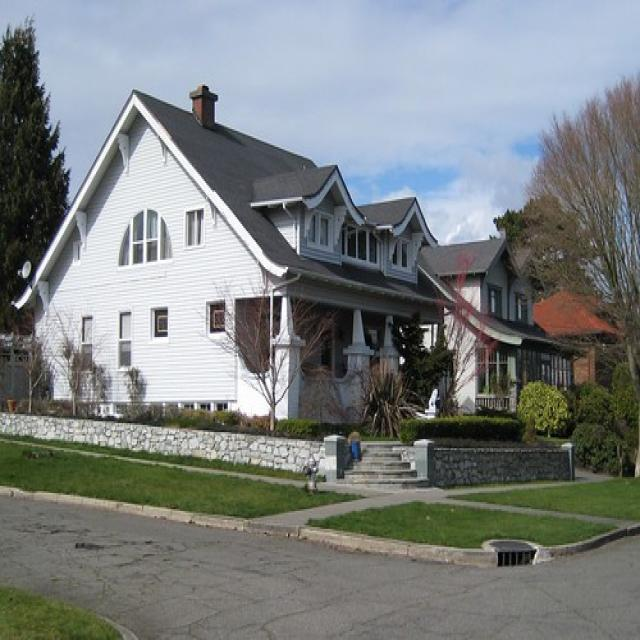Normal_building: (15, 84, 581, 436)
